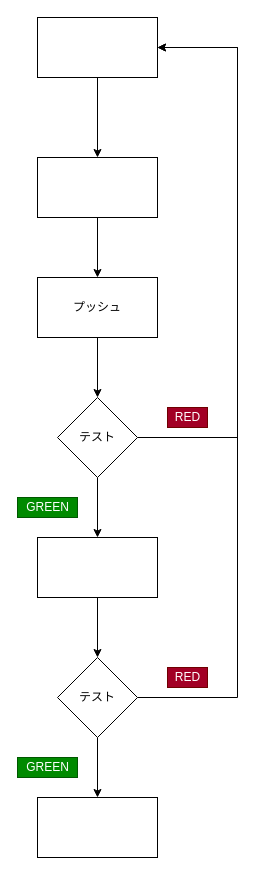
This 263x875 diagram has some shape labels left out. The shapes that lost their labels are listed below. From the top down, each one's centre as x and y in pixels, then its label:
the point at 97,47: コーディング
the point at 97,187: コミット
the point at 97,567: マージ
the point at 97,827: デプロイ
